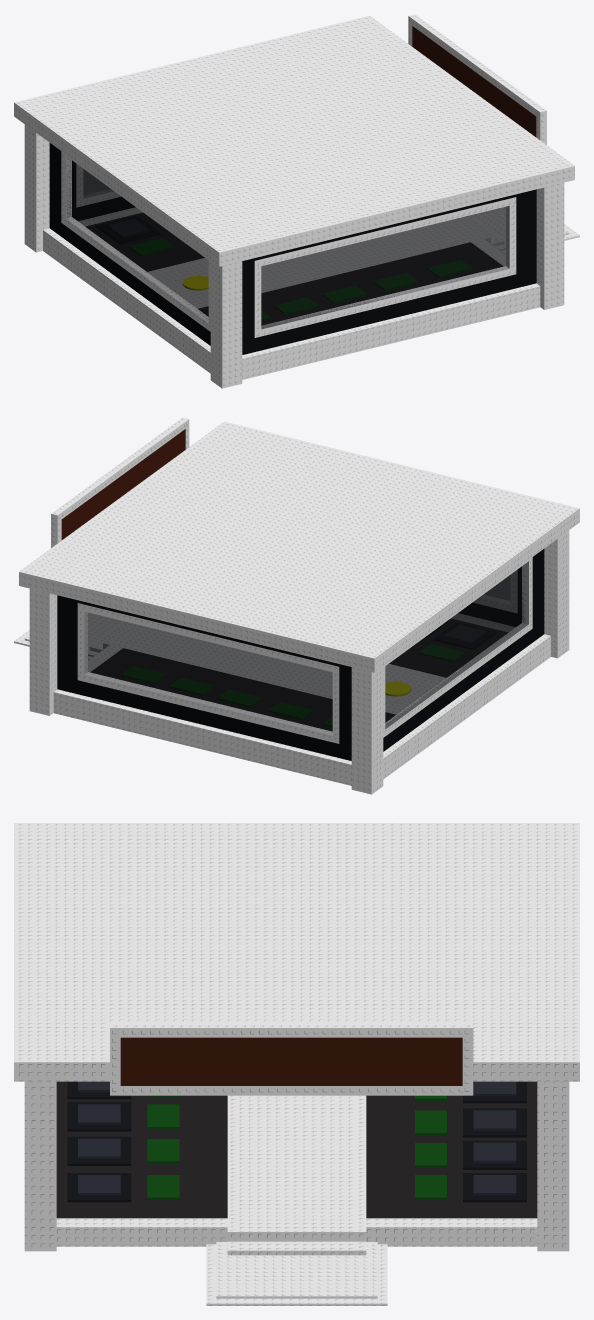
The picture shows the model from 3 angles, top to bottom: view 1: azimuth 30°, elevation 25°; view 2: azimuth 150°, elevation 25°; view 3: azimuth 270°, elevation 25°; orthographic projection. The views are drawn at different scales.
Parts seen in each view (by area): view 1: StructureBaseHome1, StructureBaseHome33, StructureBaseHome12, StructureBaseHome24, StructureBaseHome8, Part2, StructureBaseHome13, StructureBaseHome30, StructureBaseHome23, StructureBaseHome22, StructureBaseHome25, StructureBaseHome44 (+18 smaller); view 2: StructureBaseHome1, StructureBaseHome45, StructureBaseHome12, StructureBaseHome38, StructureBaseHome8, Part1, StructureBaseHome13, StructureBaseHome40, StructureBaseHome44, StructureBaseHome43, StructureBaseHome37, StructureBaseHome23 (+18 smaller); view 3: StructureBaseHome1, StructureBaseHome8, Plotsign1, Part2, Part1, StructureBaseHome3, StructureBaseHome22, StructureBaseHome43, Part12, StructureBaseHome10, StructureBaseHome11, Part13 (+26 smaller).
Part boxes in pixels (box(x1,y1,x2,y2)): StructureBaseHome1: box(14, 15, 574, 266); StructureBaseHome33: box(261, 206, 509, 328); StructureBaseHome12: box(65, 155, 208, 322); StructureBaseHome24: box(242, 283, 540, 379); StructureBaseHome8: box(152, 217, 486, 305); Part2: box(198, 242, 503, 324); StructureBaseHome13: box(43, 228, 210, 373); StructureBaseHome30: box(242, 269, 536, 354); StructureBaseHome23: box(210, 261, 242, 388); StructureBaseHome22: box(536, 182, 564, 309); StructureBaseHome25: box(254, 266, 516, 337); StructureBaseHome44: box(24, 124, 49, 252); StructureBaseHome1: box(19, 421, 579, 672); StructureBaseHome45: box(84, 612, 332, 734); StructureBaseHome12: box(385, 561, 528, 728); StructureBaseHome38: box(53, 689, 351, 785); StructureBaseHome8: box(108, 623, 441, 711); Part1: box(90, 648, 395, 731); StructureBaseHome13: box(383, 634, 550, 779); StructureBaseHome40: box(57, 675, 351, 760); StructureBaseHome44: box(351, 666, 383, 794); StructureBaseHome43: box(29, 588, 57, 715); StructureBaseHome37: box(77, 672, 339, 743); StructureBaseHome23: box(544, 530, 569, 658); StructureBaseHome1: box(14, 823, 579, 1081); StructureBaseHome8: box(238, 1095, 355, 1241); Plotsign1: box(120, 1037, 462, 1085); Part2: box(56, 1081, 227, 1218); Part1: box(366, 1081, 537, 1218); StructureBaseHome3: box(216, 1242, 377, 1298); StructureBaseHome22: box(24, 1081, 56, 1251); StructureBaseHome43: box(537, 1081, 569, 1251); Part12: box(120, 1023, 462, 1037); StructureBaseHome10: box(56, 1218, 227, 1246); StructureBaseHome11: box(366, 1218, 537, 1246); Part13: box(120, 1086, 462, 1095).
Size of the model in its own units: 64.13 by 24 by 53.
18 materials, 9 textured.
